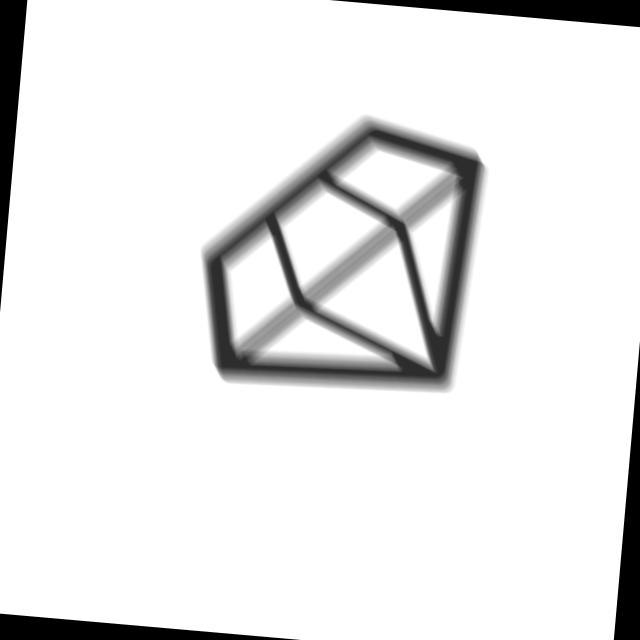diamond: (183, 94, 499, 410)
